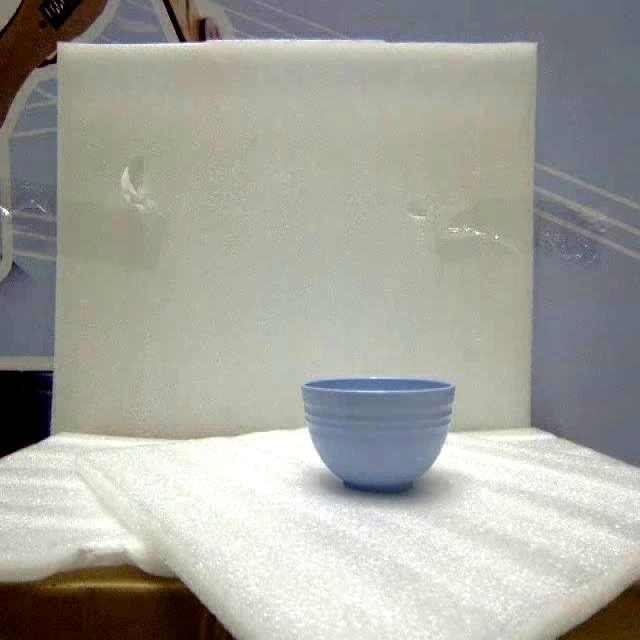Bowl: (303, 378, 454, 492)
